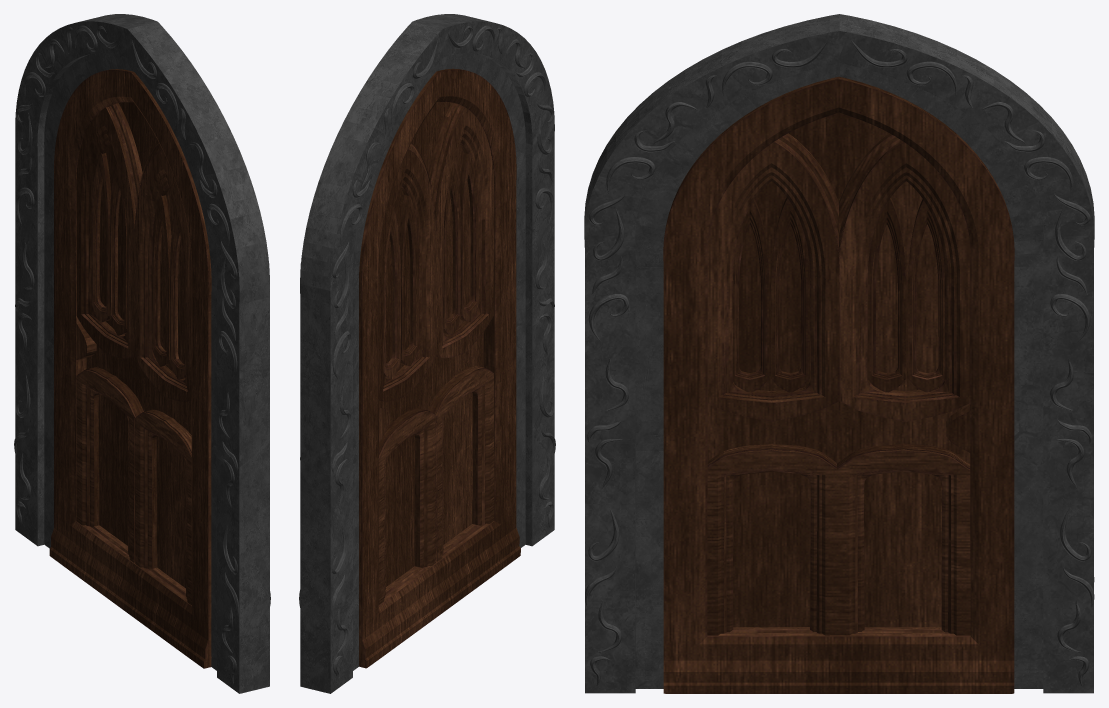
File: f_door_02.fbx
3 renders of one model, left to right at view 1: azimuth 30°, elevation 25°; view 2: azimuth 150°, elevation 25°; view 3: azimuth 270°, elevation 25°, orthographic. The views are drawn at different scales.
Parts seen in each view (by area): view 1: Plane.002; view 2: Plane.002; view 3: Plane.002.
Part boxes in pixels (<box>): Plane.002: <box>14,14,270,693</box>; Plane.002: <box>299,14,555,693</box>; Plane.002: <box>584,14,1094,693</box>.
Bounding box in the file's own units: 7 × 106 × 74.28.
